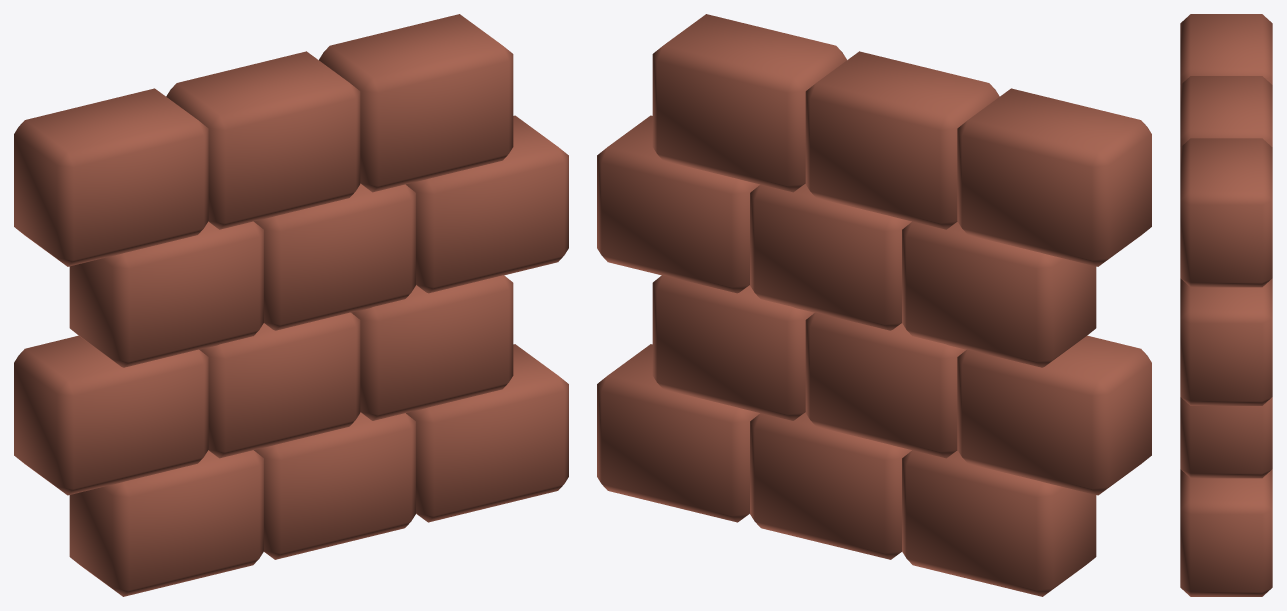
File: brick_wall_destroy.fbx
3 renders of one model, left to right at view 1: azimuth 30°, elevation 25°; view 2: azimuth 150°, elevation 25°; view 3: azimuth 270°, elevation 25°, orthographic. The views are drawn at different scales.
Visible parts, largest first — view 1: brick_wall_destroy.009, brick_wall_destroy.003, brick_wall_destroy.011, brick_wall_destroy.010, brick_wall_destroy.001, brick_wall_destroy.006, brick_wall_destroy.002, brick_wall_destroy.008, brick_wall_destroy.005, brick_wall_destroy, brick_wall_destroy.007, brick_wall_destroy.004; view 2: brick_wall_destroy.009, brick_wall_destroy.003, brick_wall_destroy.011, brick_wall_destroy.010, brick_wall_destroy.001, brick_wall_destroy.006, brick_wall_destroy.002, brick_wall_destroy.008, brick_wall_destroy.005, brick_wall_destroy, brick_wall_destroy.007, brick_wall_destroy.004; view 3: brick_wall_destroy.011, brick_wall_destroy.002, brick_wall_destroy.008, brick_wall_destroy.005, brick_wall_destroy.010, brick_wall_destroy.009.
Boxes of the visible parts, left/top/right/bottom form: brick_wall_destroy.009: left=14, top=88, right=208, bottom=266; brick_wall_destroy.003: left=14, top=335, right=208, bottom=495; brick_wall_destroy.011: left=319, top=14, right=513, bottom=192; brick_wall_destroy.010: left=166, top=51, right=360, bottom=229; brick_wall_destroy.001: left=69, top=450, right=263, bottom=596; brick_wall_destroy.006: left=69, top=221, right=263, bottom=367; brick_wall_destroy.002: left=406, top=344, right=568, bottom=522; brick_wall_destroy.008: left=406, top=115, right=568, bottom=293; brick_wall_destroy.005: left=351, top=275, right=513, bottom=420; brick_wall_destroy: left=254, top=412, right=415, bottom=559; brick_wall_destroy.007: left=254, top=184, right=415, bottom=330; brick_wall_destroy.004: left=199, top=312, right=360, bottom=458; brick_wall_destroy.009: left=957, top=88, right=1151, bottom=266; brick_wall_destroy.003: left=957, top=335, right=1151, bottom=495; brick_wall_destroy.011: left=652, top=14, right=846, bottom=192; brick_wall_destroy.010: left=805, top=51, right=999, bottom=229; brick_wall_destroy.001: left=902, top=450, right=1096, bottom=596; brick_wall_destroy.006: left=902, top=221, right=1096, bottom=367; brick_wall_destroy.002: left=597, top=344, right=759, bottom=522; brick_wall_destroy.008: left=597, top=115, right=759, bottom=293; brick_wall_destroy.005: left=652, top=275, right=814, bottom=420; brick_wall_destroy: left=750, top=412, right=911, bottom=559; brick_wall_destroy.007: left=750, top=184, right=911, bottom=330; brick_wall_destroy.004: left=805, top=312, right=966, bottom=458; brick_wall_destroy.011: left=1180, top=138, right=1272, bottom=287; brick_wall_destroy.002: left=1180, top=469, right=1272, bottom=596; brick_wall_destroy.008: left=1180, top=278, right=1272, bottom=405; brick_wall_destroy.005: left=1180, top=397, right=1272, bottom=478; brick_wall_destroy.010: left=1180, top=76, right=1272, bottom=146; brick_wall_destroy.009: left=1180, top=14, right=1272, bottom=84.
Size of the model in its own units: 415 by 355 by 77.66.
